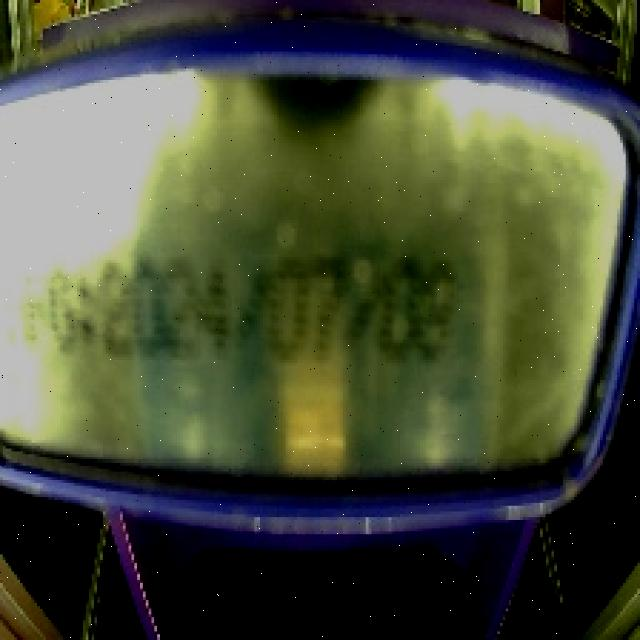metal: (0, 0, 640, 557)
